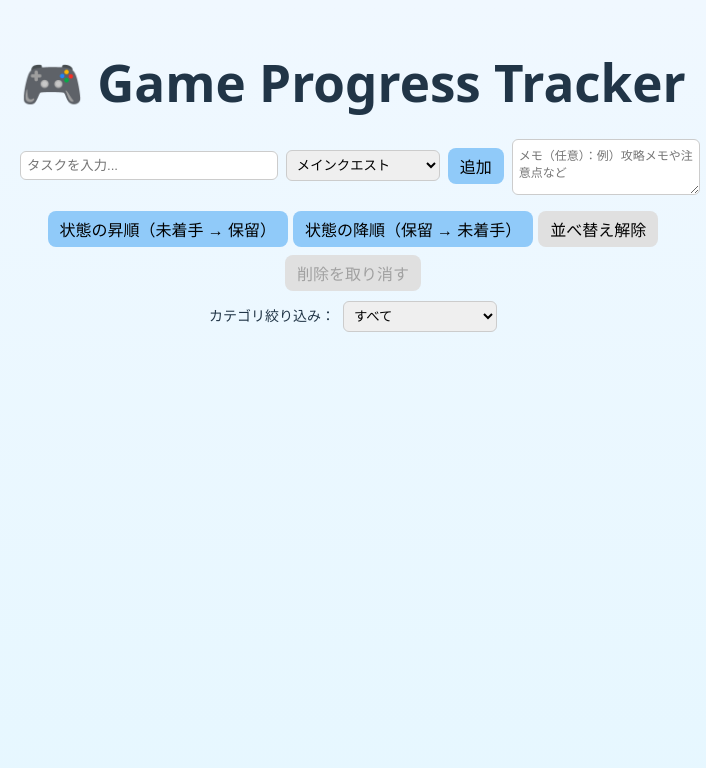
Test: UI: メモ編集機能 › タスクのメモを編集して保存すると、カード上のメモが更新される
Type "メモ編集テスト" into the field with placeholder "タスクを入力..." at (149, 166), box [20, 151, 278, 180]
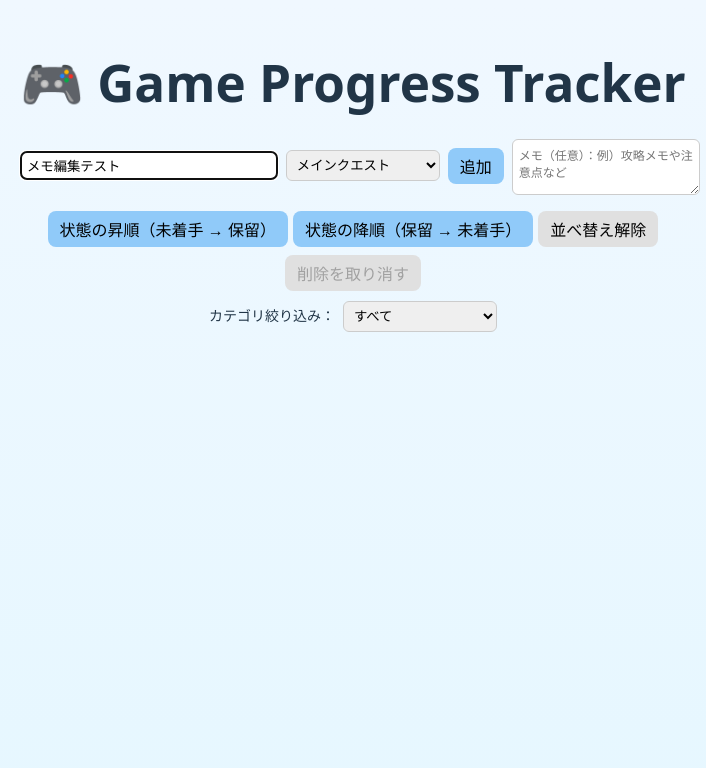
Type "最初のメモ" into the text box with placeholder "メモ（任意）：例）攻略メモや注意点など" at (606, 167), box [512, 139, 700, 195]
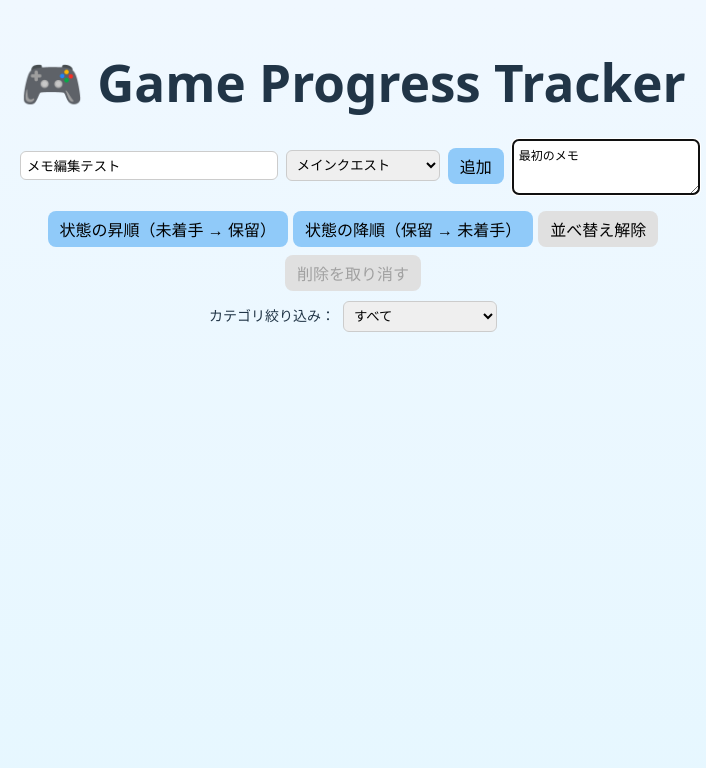
Click the button "追加" at (476, 166), box [448, 148, 504, 184]
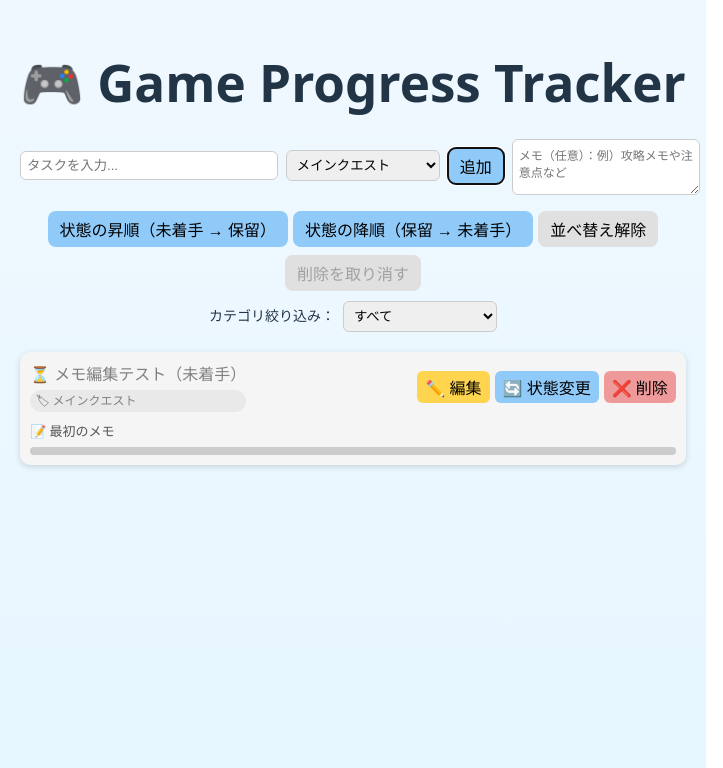
Check: the list item "⏳ メモ編集テスト（未着手） 🏷 メインクエスト ✏️ 編集 🔄 状態変更 ❌ 削除 📝 最初のメモ" is shown, box [20, 352, 686, 465]
Check: the text "📝 最初のメモ" is shown, box [30, 422, 115, 440]
// ✏️ 編集 → メモを書き換え
Click the button "✏️ 編集" at (453, 387), box [417, 371, 490, 403]
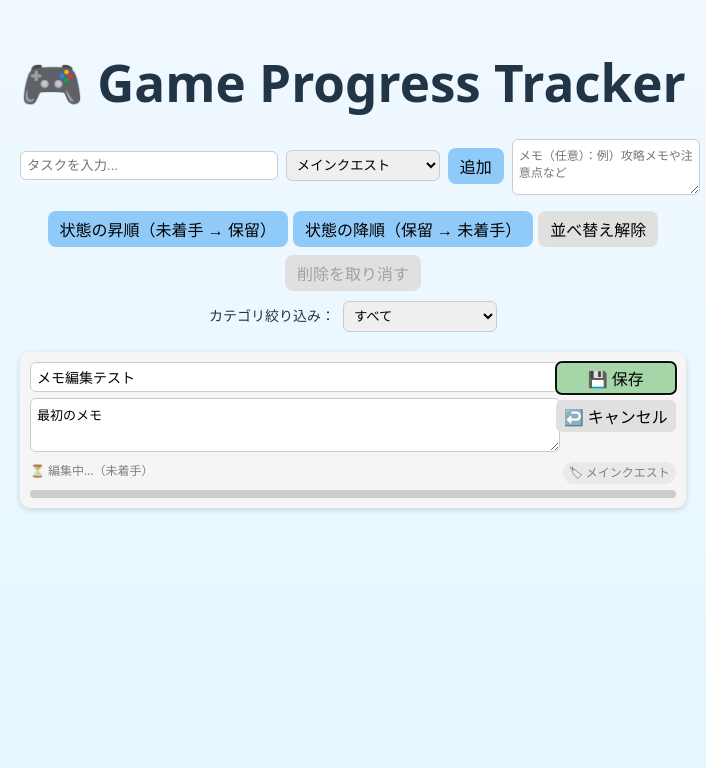
Replace the text in the text box with placeholder "メモを編集..." with "更新後のメモ" at (295, 425), box [30, 398, 560, 452]
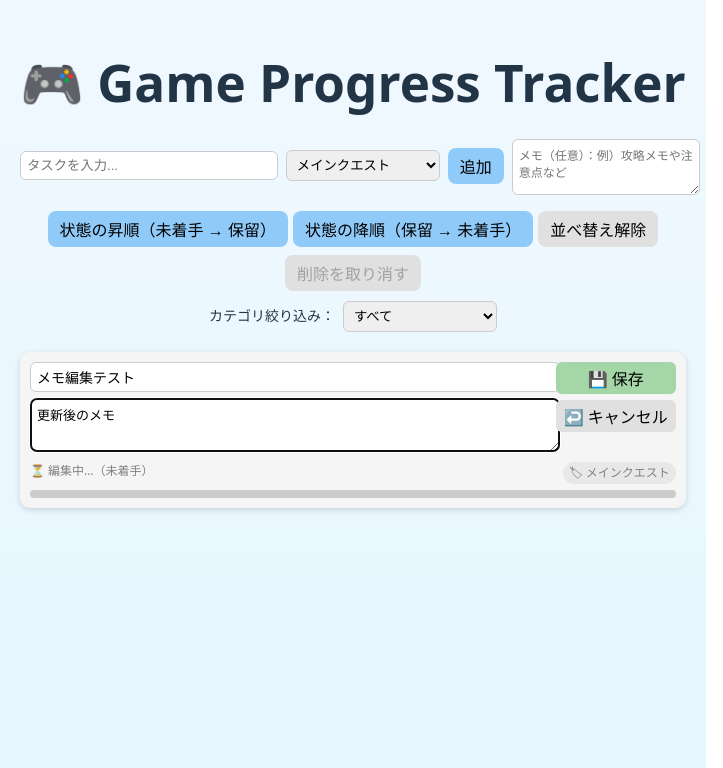
// 💾 保存 で確定
Click the button "💾 保存" at (616, 378), box [556, 362, 676, 394]
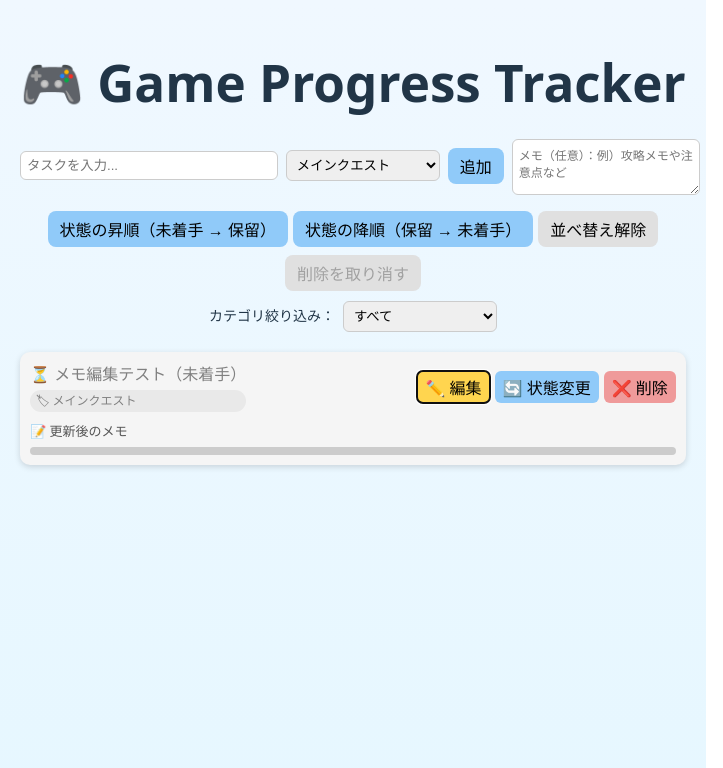
Check: the text "最初のメモ" is not shown
Check: the text "📝 更新後のメモ" is shown, box [30, 422, 128, 440]
